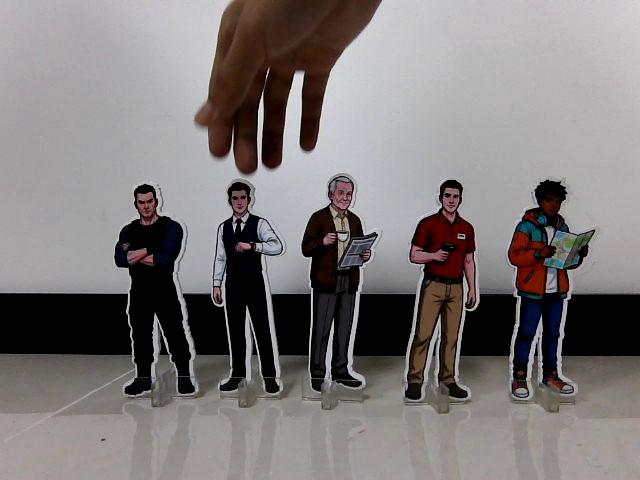community_person: (501, 170, 599, 418), (297, 167, 384, 415), (401, 170, 484, 419), (207, 170, 291, 412)
outsider: (103, 173, 203, 412)
